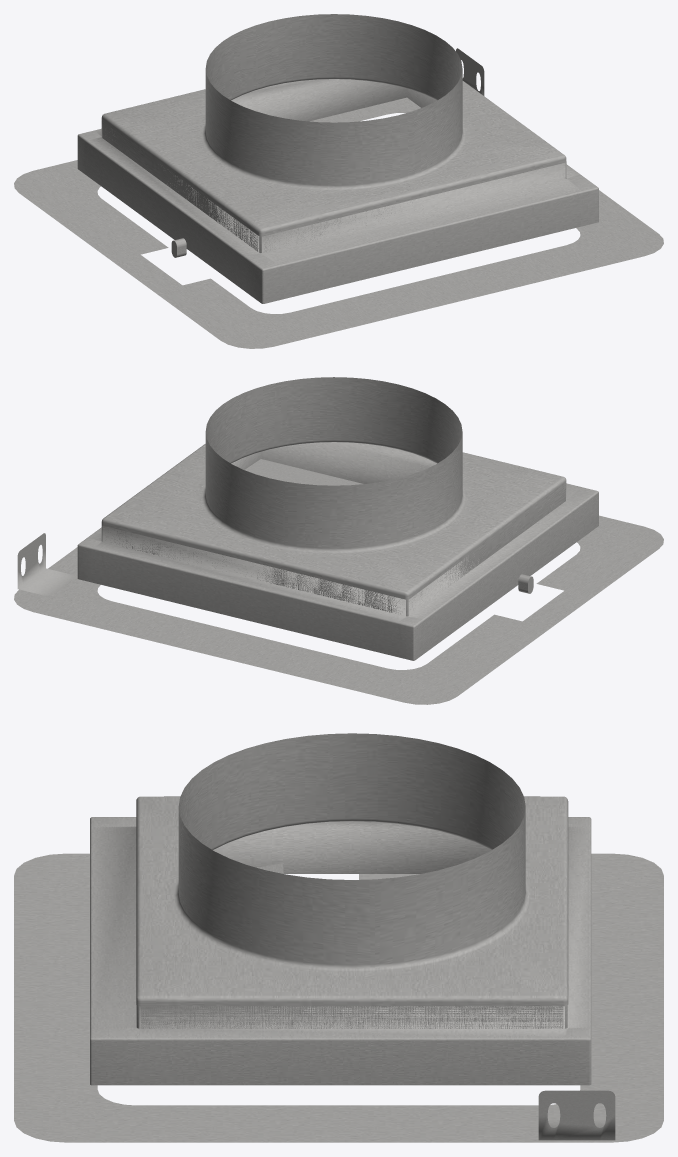
Rendered from DamperEndCap.gltf.
3 renders of one model, top to bottom at view 1: azimuth 30°, elevation 25°; view 2: azimuth 150°, elevation 25°; view 3: azimuth 270°, elevation 25°, orthographic. The views are drawn at different scales.
Parts seen in each view (by area): view 1: Plane.007, Plane.001, Plane.005, Plane.006; view 2: Plane.007, Plane.001, Plane.005, Plane.006, Plane; view 3: Plane.007, Plane.001, Plane.005, Plane.006.
Boxes of the visible parts, x1,y1,x2,y2 form: Plane.007: (101,14,566,252); Plane.001: (77,79,598,303); Plane.005: (14,97,663,348); Plane.006: (456,48,484,95); Plane.007: (101,377,566,616); Plane.001: (77,442,598,660); Plane.005: (14,515,663,704); Plane.006: (17,533,75,595); Plane: (244,459,362,485); Plane.007: (136,733,568,1028); Plane.001: (90,817,591,1085); Plane.005: (14,853,663,1142); Plane.006: (538,1090,615,1140).
Size of the model in its own units: 2.77 by 0.856 by 2.63.
2 materials, 1 textured.
